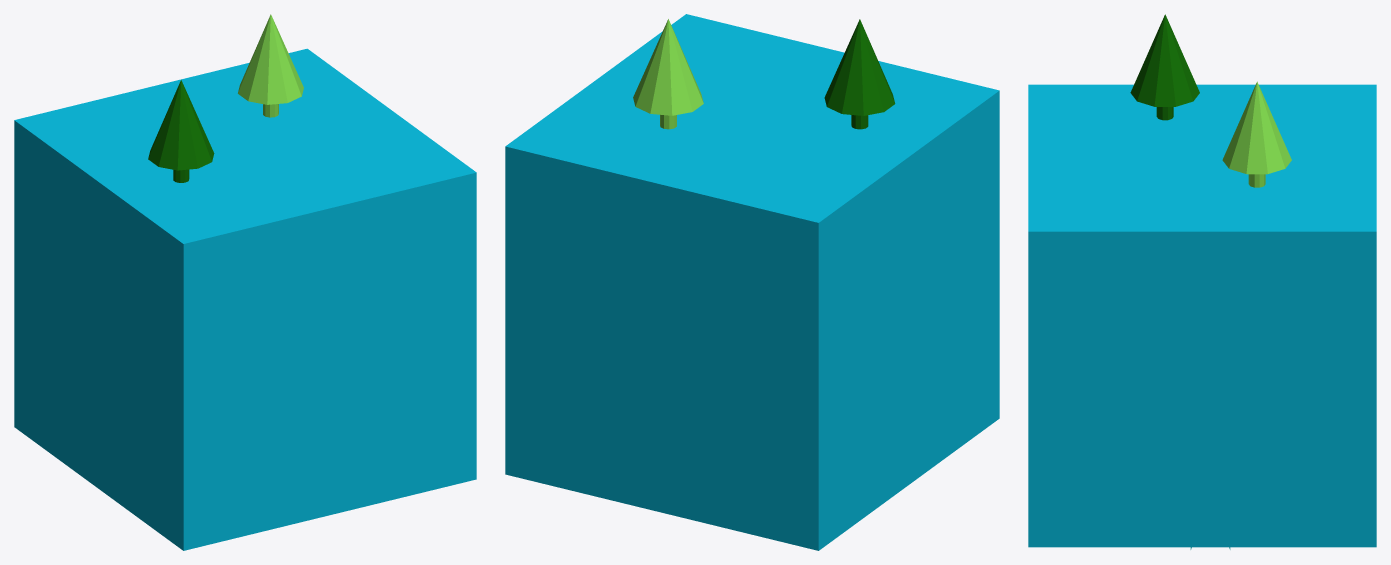
File: world3test.glb
3 renders of one model, left to right at view 1: azimuth 30°, elevation 25°; view 2: azimuth 150°, elevation 25°; view 3: azimuth 270°, elevation 25°, orthographic. The views are drawn at different scales.
Visible parts, largest first — view 1: World, Tree.001, Tree; view 2: World, Tree.001, Tree; view 3: World, Tree, Tree.001.
Boxes of the visible parts, x1=… form: World: x1=14, y1=48, x2=476, y2=550; Tree.001: x1=148, y1=80, x2=214, y2=182; Tree: x1=238, y1=14, x2=303, y2=117; World: x1=505, y1=14, x2=999, y2=550; Tree.001: x1=824, y1=19, x2=895, y2=129; Tree: x1=633, y1=19, x2=703, y2=129; World: x1=1028, y1=84, x2=1376, y2=547; Tree: x1=1222, y1=81, x2=1291, y2=187; Tree.001: x1=1130, y1=14, x2=1199, y2=120.
Bounding box in the file's own units: 0.6604 × 0.9845 × 0.6604.
